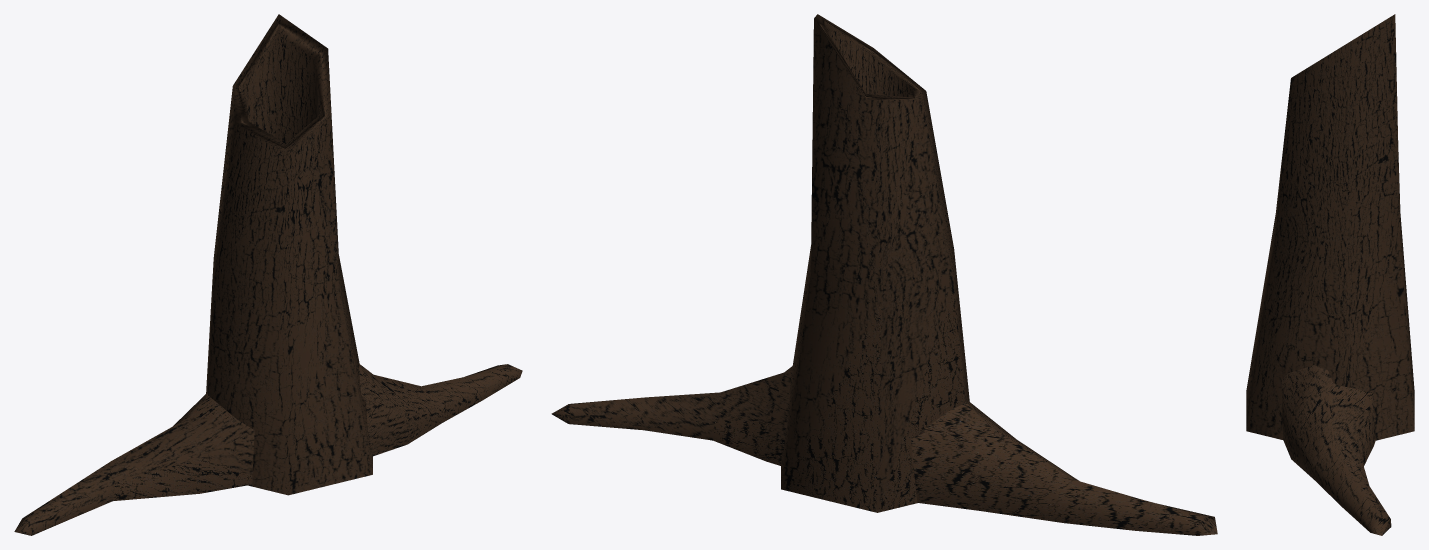
File: brokentreesfbx.fbx
3 renders of one model, left to right at view 1: azimuth 30°, elevation 25°; view 2: azimuth 150°, elevation 25°; view 3: azimuth 270°, elevation 25°, orthographic. The views are drawn at different scales.
Parts seen in each view (by area): view 1: pCylinder1, pCylinder3, pCylinder7; view 2: pCylinder1, pCylinder3, pCylinder7; view 3: pCylinder1, pCylinder7.
Boxes of the visible parts, bbox=[...] form: pCylinder1: bbox=[206, 14, 372, 495]; pCylinder3: bbox=[14, 393, 254, 535]; pCylinder7: bbox=[358, 363, 522, 456]; pCylinder1: bbox=[781, 14, 969, 512]; pCylinder3: bbox=[911, 401, 1217, 535]; pCylinder7: bbox=[551, 366, 792, 465]; pCylinder1: bbox=[1246, 14, 1414, 440]; pCylinder7: bbox=[1281, 365, 1391, 535].
Size of the model in its own units: 9.05 by 6.5 by 2.43.
